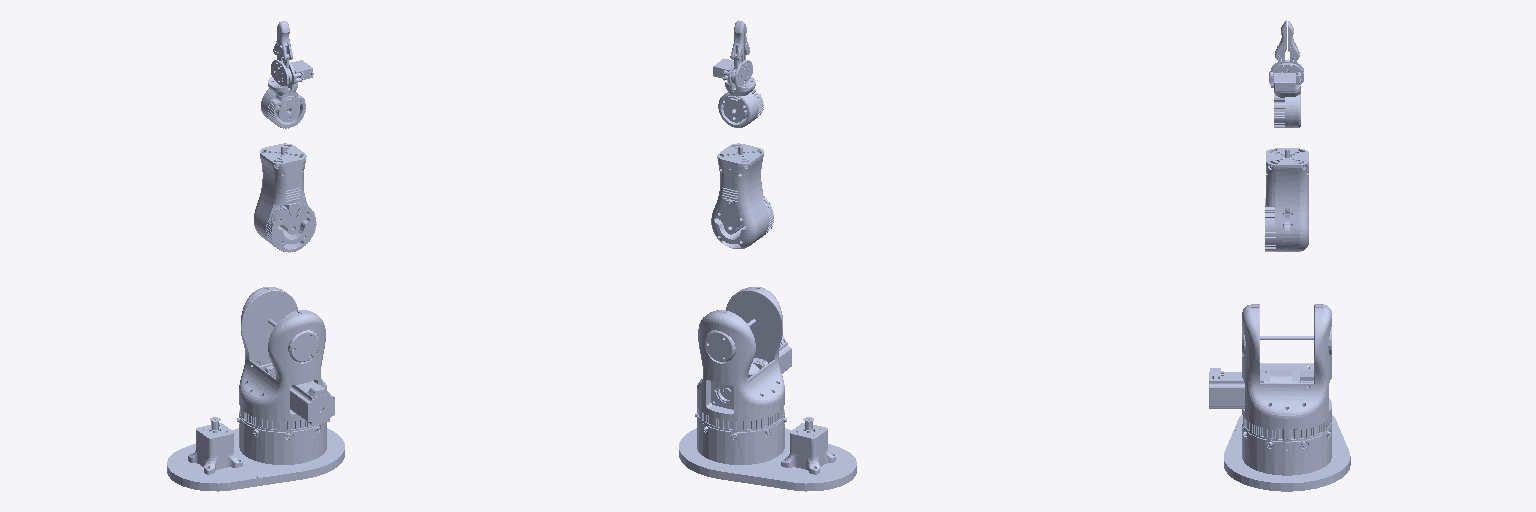
URDF robot description (urdf_v10):
<?xml version="1.0" encoding="utf-8"?>
<!-- This URDF was automatically created by SolidWorks to URDF Exporter! Originally created by [author] ([email redacted]) 
     Commit Version: 1.6.0-4-g7f85cfe  Build Version: 1.6.7995.38578
     For more information, please see http://wiki.ros.org/sw_urdf_exporter -->
<robot
  name="urdf_v10">
  <link
    name="base">
    <inertial>
      <origin
        xyz="-0.0277896697300234 0.023407682473858 0.0288009133496202"
        rpy="0 0 0" />
      <mass
        value="1.80445503906846" />
      <inertia
        ixx="0.00557261131275037"
        ixy="1.30566247737982E-06"
        ixz="-0.000539475235901591"
        iyy="0.0133501948734043"
        iyz="4.50573059784861E-07"
        izz="0.0165394809237048" />
    </inertial>
    <visual>
      <origin
        xyz="0 0 0"
        rpy="0 0 0" />
      <geometry>
        <mesh
          filename="package://urdf_v10/meshes/base.STL" />
      </geometry>
      <material
        name="">
        <color
          rgba="0.792156862745098 0.819607843137255 0.933333333333333 1" />
      </material>
    </visual>
    <collision>
      <origin
        xyz="0 0 0"
        rpy="0 0 0" />
      <geometry>
        <mesh
          filename="package://urdf_v10/meshes/base.STL" />
      </geometry>
    </collision>
  </link>
  <link
    name="base_link ">
    <inertial>
      <origin
        xyz="0.0157132867710386 0.0115275527781497 0.181315186078074"
        rpy="0 0 0" />
      <mass
        value="2.09089508032483" />
      <inertia
        ixx="0.0136133861664862"
        ixy="4.81773478827695E-06"
        ixz="-8.58975681070907E-06"
        iyy="0.00966545437107039"
        iyz="-0.000408881289480716"
        izz="0.00889732683613491" />
    </inertial>
    <visual>
      <origin
        xyz="0 0 0"
        rpy="0 0 0" />
      <geometry>
        <mesh
          filename="package://urdf_v10/meshes/base_link .STL" />
      </geometry>
      <material
        name="">
        <color
          rgba="0.792156862745098 0.819607843137255 0.933333333333333 1" />
      </material>
    </visual>
    <collision>
      <origin
        xyz="0 0 0"
        rpy="0 0 0" />
      <geometry>
        <mesh
          filename="package://urdf_v10/meshes/base_link .STL" />
      </geometry>
    </collision>
  </link>
  <joint
    name="joint_1"
    type="continuous">
    <origin
      xyz="0 0 -0.0180509631759313"
      rpy="0 0 0" />
    <parent
      link="base" />
    <child
      link="base_link " />
    <axis
      xyz="0 0 1" />
  </joint>
  <link
    name="shoulder">
    <inertial>
      <origin
        xyz="0.0158644325848684 0.025041628375034 0.178555309070935"
        rpy="0 0 0" />
      <mass
        value="1.93113192655753" />
      <inertia
        ixx="0.0170862699557534"
        ixy="3.41462460165439E-06"
        ixz="-5.32111655341239E-07"
        iyy="0.0162697572723934"
        iyz="-0.000123096765635521"
        izz="0.00359988405516652" />
    </inertial>
    <visual>
      <origin
        xyz="0 0 0"
        rpy="0 0 0" />
      <geometry>
        <mesh
          filename="package://urdf_v10/meshes/shoulder.STL" />
      </geometry>
      <material
        name="">
        <color
          rgba="0.792156862745098 0.819607843137255 0.933333333333333 1" />
      </material>
    </visual>
    <collision>
      <origin
        xyz="0 0 0"
        rpy="0 0 0" />
      <geometry>
        <mesh
          filename="package://urdf_v10/meshes/shoulder.STL" />
      </geometry>
    </collision>
  </link>
  <joint
    name="joint_2"
    type="continuous">
    <origin
      xyz="0 0 0.166937311025839"
      rpy="0 0 0" />
    <parent
      link="base_link " />
    <child
      link="shoulder" />
    <axis
      xyz="0 1 0" />
  </joint>
  <link
    name="elbow">
    <inertial>
      <origin
        xyz="0.0156751031281576 0.02319460032387 0.141664734714677"
        rpy="0 0 0" />
      <mass
        value="0.777952609087341" />
      <inertia
        ixx="0.00228138056838171"
        ixy="6.75259187016338E-08"
        ixz="-6.02427583414272E-07"
        iyy="0.0023009303154956"
        iyz="-3.06257702544362E-05"
        izz="0.000730694022316298" />
    </inertial>
    <visual>
      <origin
        xyz="0 0 0"
        rpy="0 0 0" />
      <geometry>
        <mesh
          filename="package://urdf_v10/meshes/elbow.STL" />
      </geometry>
      <material
        name="">
        <color
          rgba="0.792156862745098 0.819607843137255 0.933333333333333 1" />
      </material>
    </visual>
    <collision>
      <origin
        xyz="0 0 0"
        rpy="0 0 0" />
      <geometry>
        <mesh
          filename="package://urdf_v10/meshes/elbow.STL" />
      </geometry>
    </collision>
  </link>
  <joint
    name="joint_3"
    type="continuous">
    <origin
      xyz="0 0 0.221123792803555"
      rpy="0 0 0" />
    <parent
      link="shoulder" />
    <child
      link="elbow" />
    <axis
      xyz="0 1 0" />
  </joint>
  <link
    name="wrist_1">
    <inertial>
      <origin
        xyz="0.0159030354177622 0.0259392011604364 0.153821393804091"
        rpy="0 0 0" />
      <mass
        value="0.336033452724337" />
      <inertia
        ixx="0.000698588486758919"
        ixy="-1.06886801077444E-06"
        ixz="4.79927277960736E-06"
        iyy="0.000573509249244474"
        iyz="1.12103478728209E-05"
        izz="0.00034880644982477" />
    </inertial>
    <visual>
      <origin
        xyz="0 0 0"
        rpy="0 0 0" />
      <geometry>
        <mesh
          filename="package://urdf_v10/meshes/wrist_1.STL" />
      </geometry>
      <material
        name="">
        <color
          rgba="0.792156862745098 0.819607843137255 0.933333333333333 1" />
      </material>
    </visual>
    <collision>
      <origin
        xyz="0 0 0"
        rpy="0 0 0" />
      <geometry>
        <mesh
          filename="package://urdf_v10/meshes/wrist_1.STL" />
      </geometry>
    </collision>
  </link>
  <joint
    name="joint_4"
    type="continuous">
    <origin
      xyz="0 0.000500999999999197 0.129539254362447"
      rpy="0 0 0" />
    <parent
      link="elbow" />
    <child
      link="wrist_1" />
    <axis
      xyz="0 0 1" />
  </joint>
  <link
    name="wrist_2">
    <inertial>
      <origin
        xyz="0.0157674862313771 0.0237812415260289 0.102441852068916"
        rpy="0 0 0" />
      <mass
        value="0.158624033379917" />
      <inertia
        ixx="8.93595815588675E-05"
        ixy="-2.61047265900904E-09"
        ixz="-6.69970075347436E-08"
        iyy="0.000106318553763209"
        iyz="-6.19881915620026E-07"
        izz="7.50977668332821E-05" />
    </inertial>
    <visual>
      <origin
        xyz="0 0 0"
        rpy="0 0 0" />
      <geometry>
        <mesh
          filename="package://urdf_v10/meshes/wrist_2.STL" />
      </geometry>
      <material
        name="">
        <color
          rgba="0.792156862745098 0.819607843137255 0.933333333333333 1" />
      </material>
    </visual>
    <collision>
      <origin
        xyz="0 0 0"
        rpy="0 0 0" />
      <geometry>
        <mesh
          filename="package://urdf_v10/meshes/wrist_2.STL" />
      </geometry>
    </collision>
  </link>
  <joint
    name="joint_5"
    type="continuous">
    <origin
      xyz="0 0 0.0989607456375549"
      rpy="0 0 0" />
    <parent
      link="wrist_1" />
    <child
      link="wrist_2" />
    <axis
      xyz="0 1 0" />
  </joint>
  <link
    name="gripper_base">
    <inertial>
      <origin
        xyz="0.0311543631130002 0.0219859947844332 0.827225405967619"
        rpy="0 0 0" />
      <mass
        value="0.0669550622887329" />
      <inertia
        ixx="2.24885106980752E-05"
        ixy="2.35779600573181E-06"
        ixz="-2.87441674024981E-06"
        iyy="3.18452559002668E-05"
        iyz="3.57683917822237E-07"
        izz="3.67649419237165E-05" />
    </inertial>
    <visual>
      <origin
        xyz="0 0 0"
        rpy="0 0 0" />
      <geometry>
        <mesh
          filename="package://urdf_v10/meshes/gripper_base.STL" />
      </geometry>
      <material
        name="">
        <color
          rgba="0.792156862745098 0.819607843137255 0.933333333333333 1" />
      </material>
    </visual>
    <collision>
      <origin
        xyz="0 0 0"
        rpy="0 0 0" />
      <geometry>
        <mesh
          filename="package://urdf_v10/meshes/gripper_base.STL" />
      </geometry>
    </collision>
  </link>
  <joint
    name="joint_6"
    type="fixed">
    <origin
      xyz="0 -0.000501000000000529 -0.666561103829396"
      rpy="0 0 0" />
    <parent
      link="wrist_2" />
    <child
      link="gripper_base" />
    <axis
      xyz="0 0 0" />
  </joint>
  <link
    name="gear1">
    <inertial>
      <origin
        xyz="0.0121731440779397 0.0223638854455627 0.106606399742784"
        rpy="0 0 0" />
      <mass
        value="0.00438273150211103" />
      <inertia
        ixx="9.8932109159113E-07"
        ixy="-2.36894708023036E-12"
        ixz="-5.18581666250675E-11"
        iyy="8.27204211795526E-07"
        iyz="-3.36050790198257E-08"
        izz="1.87956460887756E-07" />
    </inertial>
    <visual>
      <origin
        xyz="0 0 0"
        rpy="0 0 0" />
      <geometry>
        <mesh
          filename="package://urdf_v10/meshes/gear1.STL" />
      </geometry>
      <material
        name="">
        <color
          rgba="0.792156862745098 0.819607843137255 0.933333333333333 1" />
      </material>
    </visual>
    <collision>
      <origin
        xyz="0 0 0"
        rpy="0 0 0" />
      <geometry>
        <mesh
          filename="package://urdf_v10/meshes/gear1.STL" />
      </geometry>
    </collision>
  </link>
  <joint
    name="joint_7"
    type="continuous">
    <origin
      xyz="0.00342579567430223 -0.0134990000000121 0.731545773616594"
      rpy="0 0.00461853187879238 0" />
    <parent
      link="gripper_base" />
    <child
      link="gear1" />
    <axis
      xyz="0.999999997927059 0 -6.43885282803659E-05" />
  </joint>
  <link
    name="leg1-1">
    <inertial>
      <origin
        xyz="0.00929593829287573 -0.000672374283888555 0.0475923912478822"
        rpy="0 0 0" />
      <mass
        value="0.010675437516944" />
      <inertia
        ixx="4.10221567193053E-06"
        ixy="-1.70840088964406E-09"
        ixz="-9.73747876405975E-09"
        iyy="4.17675161746691E-06"
        iyz="-6.39775329162735E-07"
        izz="5.77185020661968E-07" />
    </inertial>
    <visual>
      <origin
        xyz="0 0 0"
        rpy="0 0 0" />
      <geometry>
        <mesh
          filename="package://urdf_v10/meshes/leg1-1.STL" />
      </geometry>
      <material
        name="">
        <color
          rgba="0.792156862745098 0.819607843137255 0.933333333333333 1" />
      </material>
    </visual>
    <collision>
      <origin
        xyz="0 0 0"
        rpy="0 0 0" />
      <geometry>
        <mesh
          filename="package://urdf_v10/meshes/leg1-1.STL" />
      </geometry>
    </collision>
  </link>
  <joint
    name="joint_11"
    type="fixed">
    <origin
      xyz="0.0031365 0.030395 0.11869"
      rpy="0 -0.0046185 0" />
    <parent
      link="gear1" />
    <child
      link="leg1-1" />
    <axis
      xyz="0 0 0" />
  </joint>
  <link
    name="gear2">
    <inertial>
      <origin
        xyz="0.0126653808977272 0.0244269735564364 0.106549040913118"
        rpy="0 0 0" />
      <mass
        value="0.00438273150125593" />
      <inertia
        ixx="9.89303521070554E-07"
        ixy="1.57163638382398E-10"
        ixz="-3.75240983571211E-09"
        iyy="8.27204209950204E-07"
        iyz="3.3604703827397E-08"
        izz="1.87974027803604E-07" />
    </inertial>
    <visual>
      <origin
        xyz="0 0 0"
        rpy="0 0 0" />
      <geometry>
        <mesh
          filename="package://urdf_v10/meshes/gear2.STL" />
      </geometry>
      <material
        name="">
        <color
          rgba="0.792156862745098 0.819607843137255 0.933333333333333 1" />
      </material>
    </visual>
    <collision>
      <origin
        xyz="0 0 0"
        rpy="0 0 0" />
      <geometry>
        <mesh
          filename="package://urdf_v10/meshes/gear2.STL" />
      </geometry>
    </collision>
  </link>
  <joint
    name="joint_8"
    type="continuous">
    <origin
      xyz="0.0034258 0.014501 0.73155"
      rpy="0 0 0" />
    <parent
      link="gripper_base" />
    <child
      link="gear2" />
    <axis
      xyz="-0.99999 0 0.0046829" />
    <mimic
      joint="joint_7"
      multiplier="-1"
      offset="0" />
  </joint>
  <link
    name="leg2-1">
    <inertial>
      <origin
        xyz="-9.84910035084496E-05 -0.0497032278500568 0.76462584713727"
        rpy="0 0 0" />
      <mass
        value="0.0106754461770056" />
      <inertia
        ixx="4.10221667015722E-06"
        ixy="-1.70826774116559E-09"
        ixz="-9.73784470888698E-09"
        iyy="4.17675215863977E-06"
        iyz="-6.39775026489062E-07"
        izz="5.77185107952777E-07" />
    </inertial>
    <visual>
      <origin
        xyz="0 0 0"
        rpy="0 0 0" />
      <geometry>
        <mesh
          filename="package://urdf_v10/meshes/leg2-1.STL" />
      </geometry>
      <material
        name="">
        <color
          rgba="0.792156862745098 0.819607843137255 0.933333333333333 1" />
      </material>
    </visual>
    <collision>
      <origin
        xyz="0 0 0"
        rpy="0 0 0" />
      <geometry>
        <mesh
          filename="package://urdf_v10/meshes/leg2-1.STL" />
      </geometry>
    </collision>
  </link>
  <joint
    name="joint_12"
    type="fixed">
    <origin
      xyz="0.0056497 -0.032635 -0.59833"
      rpy="0 -0.0093658 3.1416" />
    <parent
      link="gear2" />
    <child
      link="leg2-1" />
    <axis
      xyz="0.99999 0 -0.0046829" />
  </joint>
  <link
    name="parm1">
    <inertial>
      <origin
        xyz="0.0121739234023694 0.0231204445028104 0.118683662009147"
        rpy="0 0 0" />
      <mass
        value="0.00163735500294608" />
      <inertia
        ixx="3.04623075919876E-07"
        ixy="2.60134978223588E-13"
        ixz="-1.89774342401843E-11"
        iyy="3.03667099460086E-07"
        iyz="4.03369978526193E-09"
        izz="1.03540953234062E-08" />
    </inertial>
    <visual>
      <origin
        xyz="0 0 0"
        rpy="0 0 0" />
      <geometry>
        <mesh
          filename="package://urdf_v10/meshes/parm1.STL" />
      </geometry>
      <material
        name="">
        <color
          rgba="0.792156862745098 0.819607843137255 0.933333333333333 1" />
      </material>
    </visual>
    <collision>
      <origin
        xyz="0 0 0"
        rpy="0 0 0" />
      <geometry>
        <mesh
          filename="package://urdf_v10/meshes/parm1.STL" />
      </geometry>
    </collision>
  </link>
  <joint
    name="joint_9"
    type="continuous">
    <origin
      xyz="0.00351945374055956 -0.00649900000001213 0.751545554409805"
      rpy="0 0.00461853180586022 0" />
    <parent
      link="gripper_base" />
    <child
      link="parm1" />
    <axis
      xyz="0.999999997927054 0 -6.4388601212528E-05" />
    <mimic
      joint="joint_7"
      multiplier="1"
      offset="0" />
  </joint>
  <link
    name="parm_2">
    <inertial>
      <origin
        xyz="0.0121739233969216 0.0236704345270295 0.118683661755409"
        rpy="0 0 0" />
      <mass
        value="0.001637355002946" />
      <inertia
        ixx="3.04623075919875E-07"
        ixy="-2.6018916526957E-13"
        ixz="-1.89774192851861E-11"
        iyy="3.0366707623103E-07"
        iyz="-4.03454425436892E-09"
        izz="1.03541185524565E-08" />
    </inertial>
    <visual>
      <origin
        xyz="0 0 0"
        rpy="0 0 0" />
      <geometry>
        <mesh
          filename="package://urdf_v10/meshes/parm_2.STL" />
      </geometry>
      <material
        name="">
        <color
          rgba="0.792156862745098 0.819607843137255 0.933333333333333 1" />
      </material>
    </visual>
    <collision>
      <origin
        xyz="0 0 0"
        rpy="0 0 0" />
      <geometry>
        <mesh
          filename="package://urdf_v10/meshes/parm_2.STL" />
      </geometry>
    </collision>
  </link>
  <joint
    name="joint_10"
    type="continuous">
    <origin
      xyz="0.00351945374057844 0.00750099999998788 0.751545554409805"
      rpy="0 0.00461853185163578 0" />
    <parent
      link="gripper_base" />
    <child
      link="parm_2" />
    <axis
      xyz="0.999999997927057 0 -6.43885554369675E-05" />
    <mimic
      joint="joint_9"
      multiplier="-1"
      offset="0" />
  </joint>
</robot>

--- Facts derived from the render (not from the file) ---
The picture shows the robot from 3 angles, left to right: view 1: azimuth 30°, elevation 25°; view 2: azimuth 150°, elevation 25°; view 3: azimuth 270°, elevation 25°; orthographic projection.
Robot: urdf_v10 — 13 links, 12 joints (9 continuous, 3 fixed); root link base; default pose: every joint at zero.
Links seen in each view (by area): view 1: base_link, base, elbow, wrist_2, gripper_base; view 2: base_link, base, elbow, wrist_2, gripper_base; view 3: base_link, base, elbow, wrist_2, gripper_base.
Link boxes in pixels (x1,y1,x2,y2): base_link: [239, 287, 334, 431]; base: [167, 415, 344, 491]; elbow: [254, 143, 316, 252]; wrist_2: [261, 86, 305, 128]; gripper_base: [268, 60, 313, 91]; base_link: [697, 287, 791, 431]; base: [679, 413, 856, 491]; elbow: [711, 143, 773, 248]; wrist_2: [718, 87, 763, 127]; gripper_base: [713, 58, 755, 91]; base_link: [1209, 304, 1331, 441]; base: [1224, 415, 1350, 491]; elbow: [1265, 148, 1308, 251]; wrist_2: [1274, 91, 1300, 127]; gripper_base: [1269, 60, 1303, 92].
Size in the robot's own frame: 0.3415 by 0.2501 by 0.8667 metres.
Meshes: 13 distinct files referenced, 11 mesh visuals loaded (11 binary STL); not drawn: 2 (reference not matched to a file when rendering).